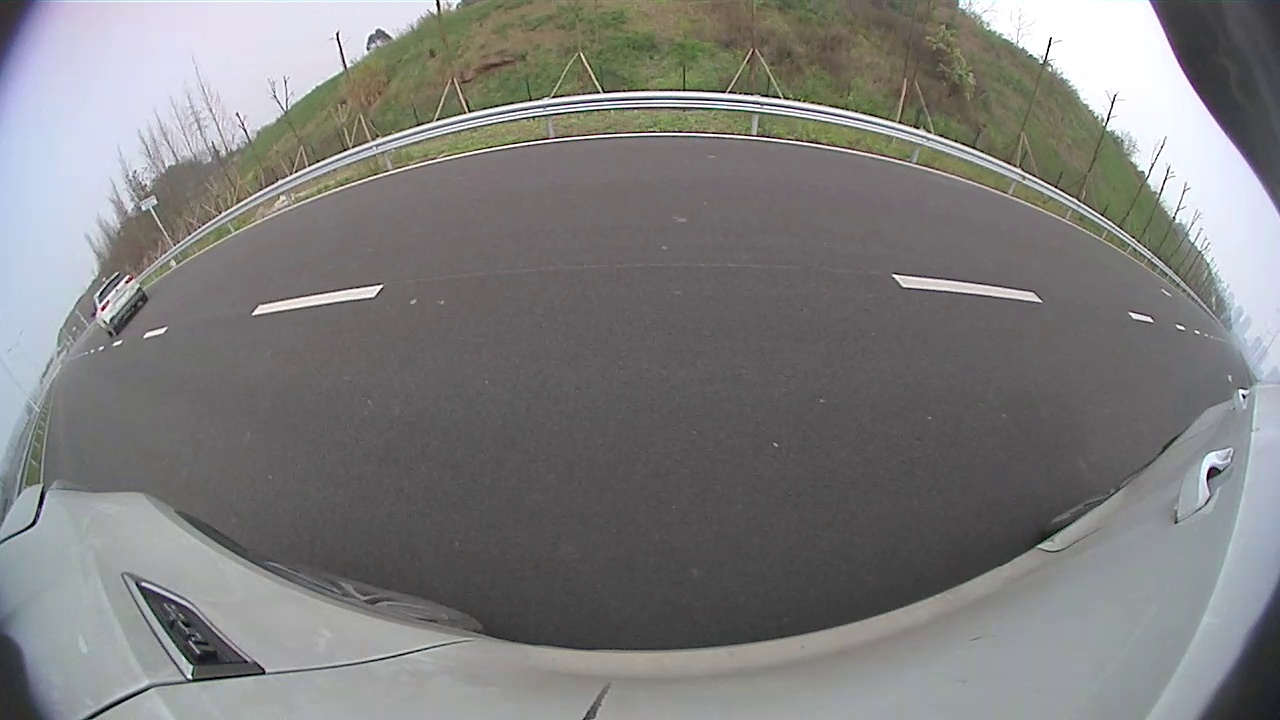car: (696, 150, 768, 196)
front: (696, 174, 705, 191)
rear: (710, 174, 720, 194)
